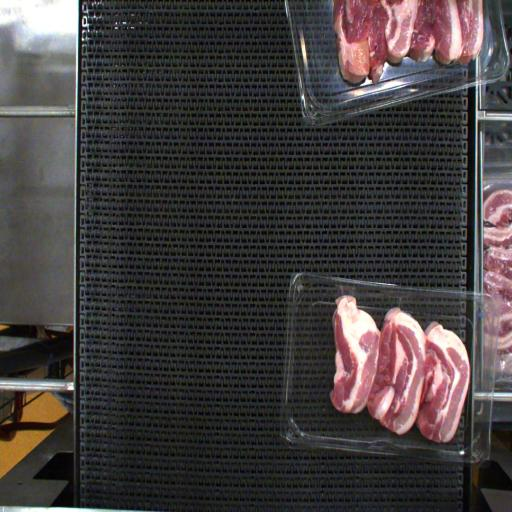packaging-error: (337, 280, 353, 302), (396, 296, 404, 312)
